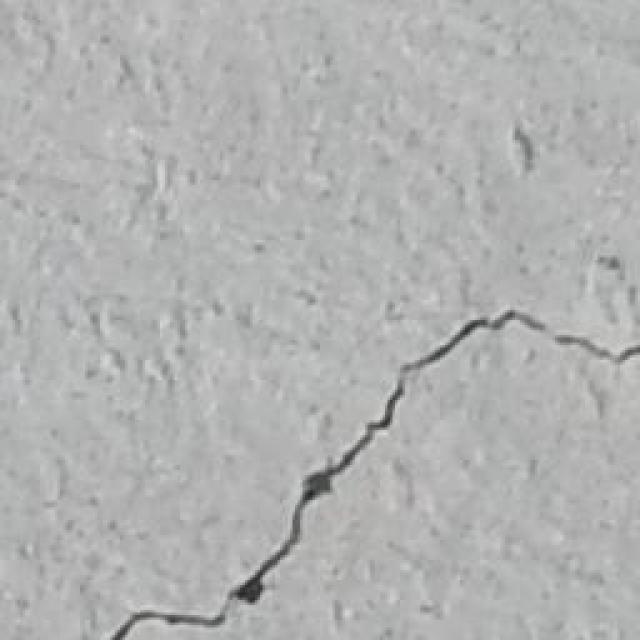concrete-crack: (108, 310, 640, 640)
